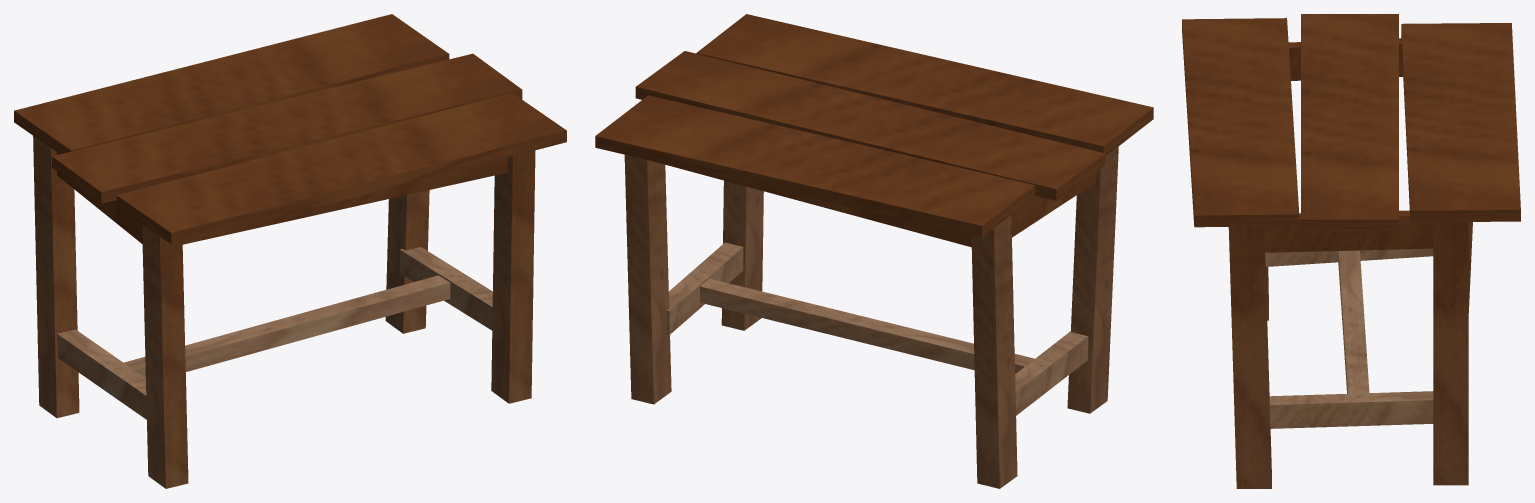
File: Table.fbx
3 views of the same model, side by side, from view 1: azimuth 30°, elevation 25°; view 2: azimuth 150°, elevation 25°; view 3: azimuth 270°, elevation 25° (orthographic).
Visible parts, largest first — view 1: Cube.011, Cube.012, Cube.013, Cube.001, Cube.002, Cube, Cube.006, Cube.003, Cube.004, Cube.009, Cube.005, Cube.007; view 2: Cube.013, Cube.011, Cube.012, Cube, Cube.003, Cube.001, Cube.006, Cube.002, Cube.004, Cube.005, Cube.010, Cube.007; view 3: Cube.013, Cube.011, Cube.012, Cube.002, Cube.003, Cube.005, Cube.008, Cube.006, Cube.004, Cube.007.
Boxes of the visible parts, box(x1,y1,x2,y2) form: Cube.011: box(116, 93, 566, 244); Cube.012: box(52, 53, 522, 203); Cube.013: box(14, 14, 449, 154); Cube.001: box(142, 224, 188, 488); Cube.002: box(491, 150, 535, 403); Cube: box(33, 136, 79, 418); Cube.006: box(124, 275, 450, 377); Cube.003: box(385, 190, 429, 333); Cube.004: box(57, 329, 146, 419); Cube.009: box(182, 157, 507, 244); Cube.005: box(399, 247, 492, 330); Cube.007: box(56, 152, 142, 243); Cube.013: box(595, 95, 1035, 237); Cube.011: box(696, 14, 1153, 156); Cube.012: box(635, 51, 1105, 200); Cube: box(971, 215, 1017, 488); Cube.003: box(624, 154, 671, 404); Cube.001: box(1067, 146, 1118, 413); Cube.006: box(700, 278, 1034, 373); Cube.002: box(721, 180, 763, 330); Cube.004: box(1015, 331, 1088, 415); Cube.005: box(666, 242, 743, 334); Cube.010: box(653, 161, 971, 247); Cube.007: box(1011, 172, 1095, 237); Cube.013: box(1401, 23, 1520, 222); Cube.011: box(1182, 18, 1299, 227); Cube.012: box(1301, 14, 1398, 231); Cube.002: box(1228, 226, 1271, 488); Cube.003: box(1433, 222, 1468, 485); Cube.005: box(1269, 391, 1433, 428); Cube.008: box(1264, 210, 1433, 252); Cube.006: box(1338, 250, 1369, 393); Cube.004: box(1265, 248, 1433, 266); Cube.007: box(1288, 38, 1403, 80).
Bounding box in the file's own units: 475 × 302 × 330.
